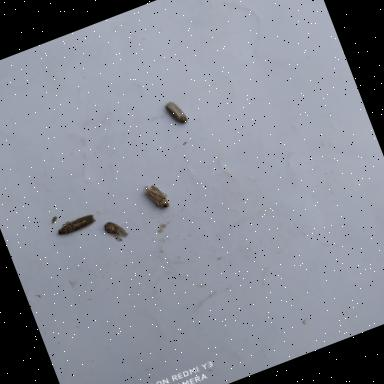pbw: (51, 209, 100, 241), (140, 177, 174, 216), (160, 95, 192, 130), (100, 215, 134, 247)
